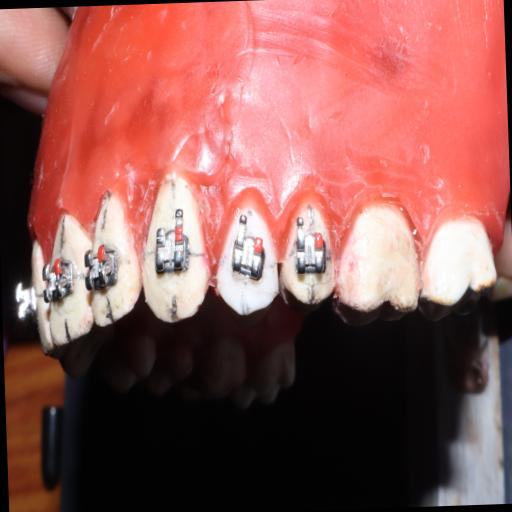correct_brace: (212, 194, 278, 320)
